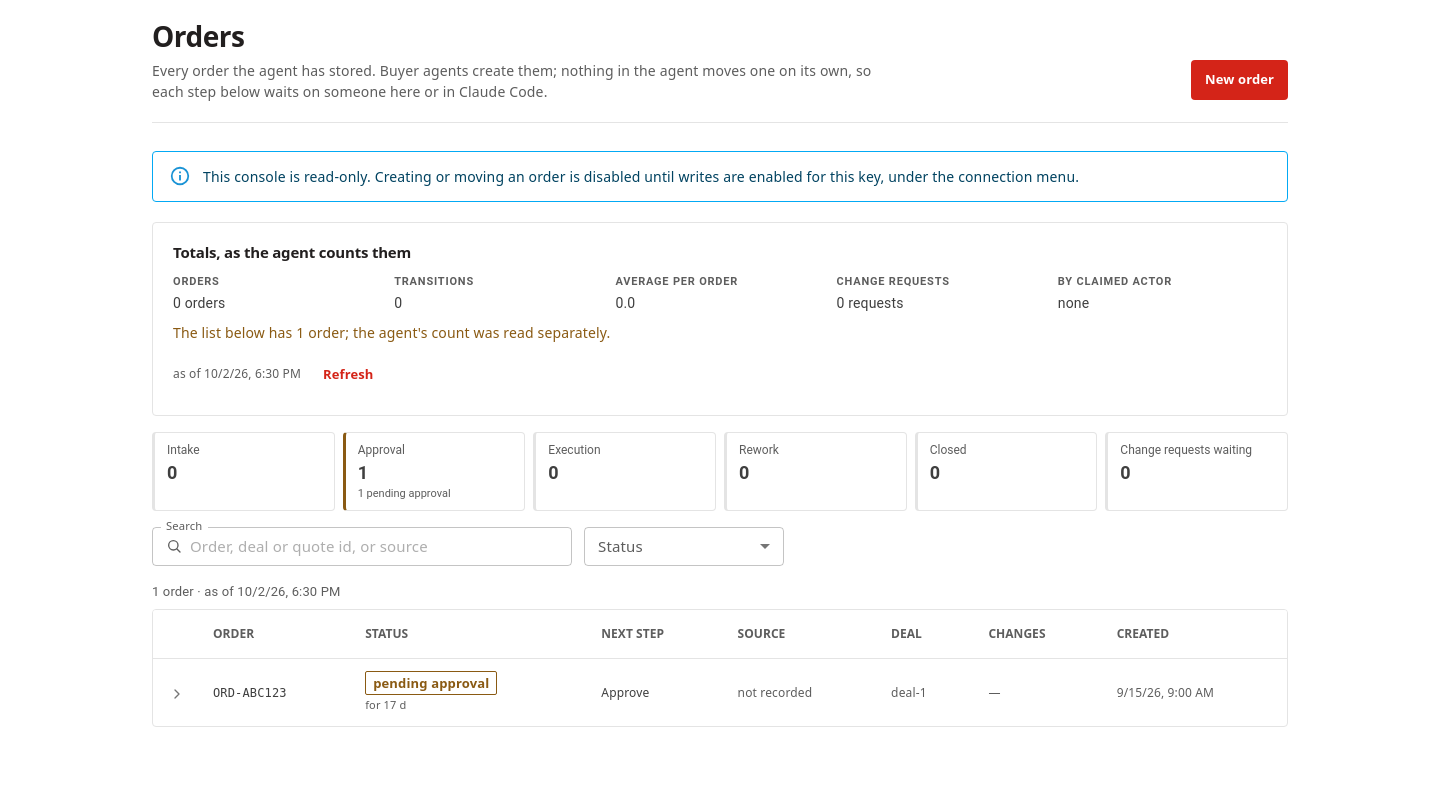
Test: the orders screen › price and terms › offers the quote when the deal is not in the list
Click the button named "Show ORD-ABC123" at (177, 694), box [169,686,185,702]
(page scrolled)
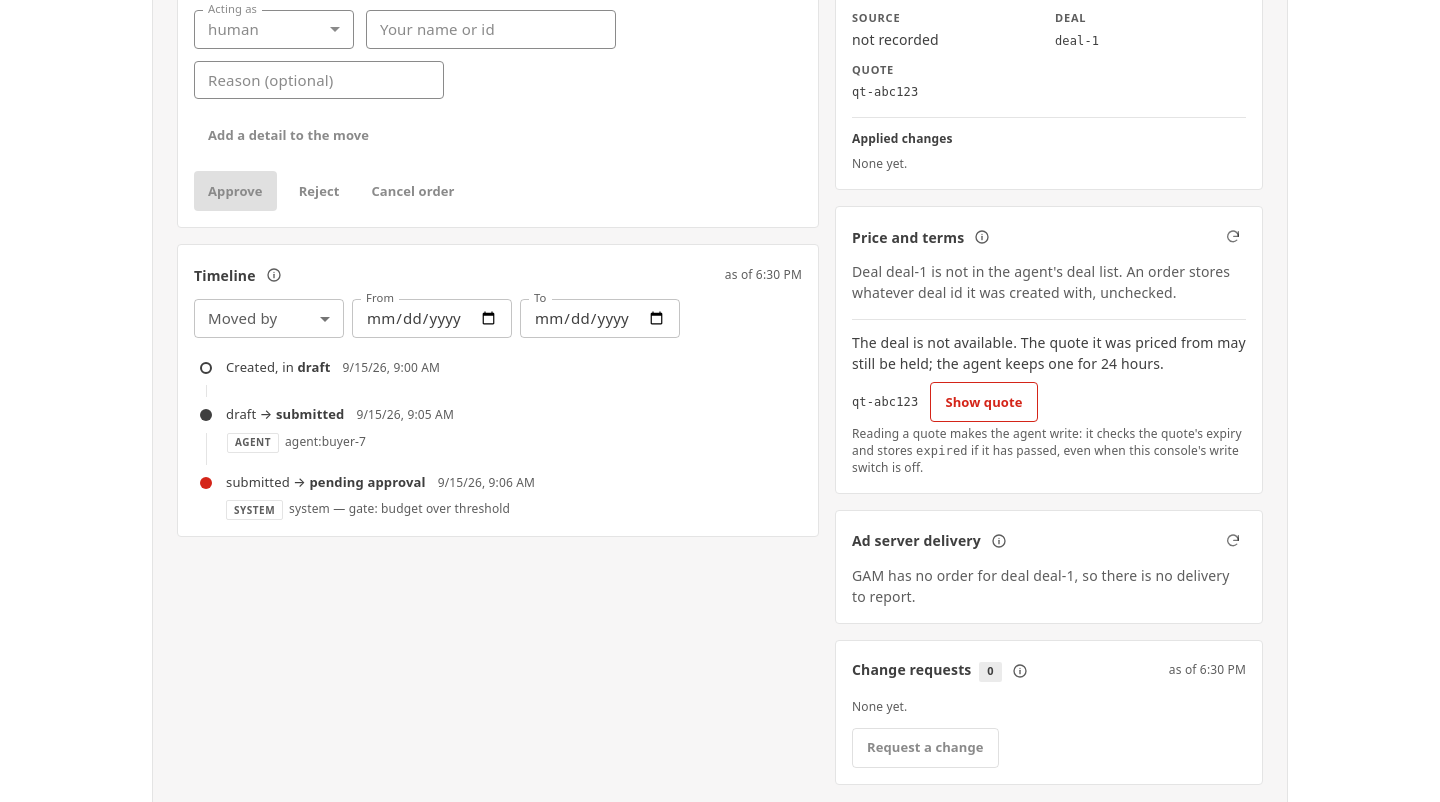
Now the element that starts with "Price and terms" is shown, box [835,206,1263,494]
Now the element that starts with "The deal is not available." is shown, box [852,319,1246,477]
